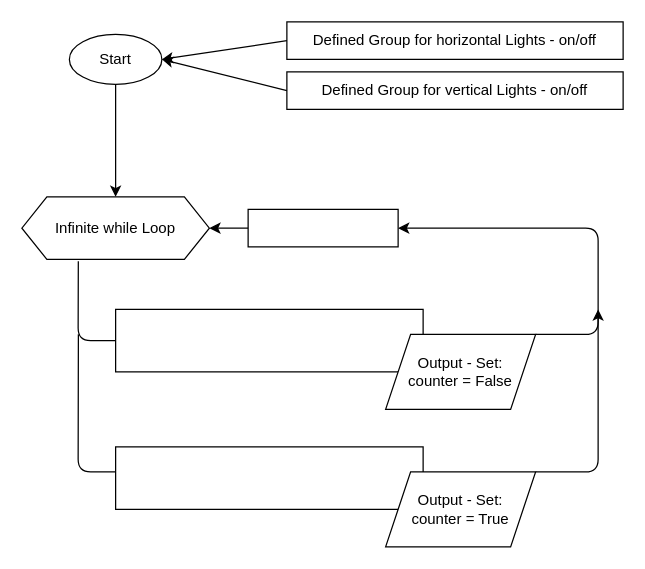
Image size: 645x569. Some labels were removed from this diagram. Each missing label, with the box of its shape:
If counter = False: run horizontal lights for set amount of time: (114, 446, 423, 509)
If counter = True: run Vertical lights for set amount of time: (114, 308, 423, 372)
var counter = True: (247, 208, 398, 247)
